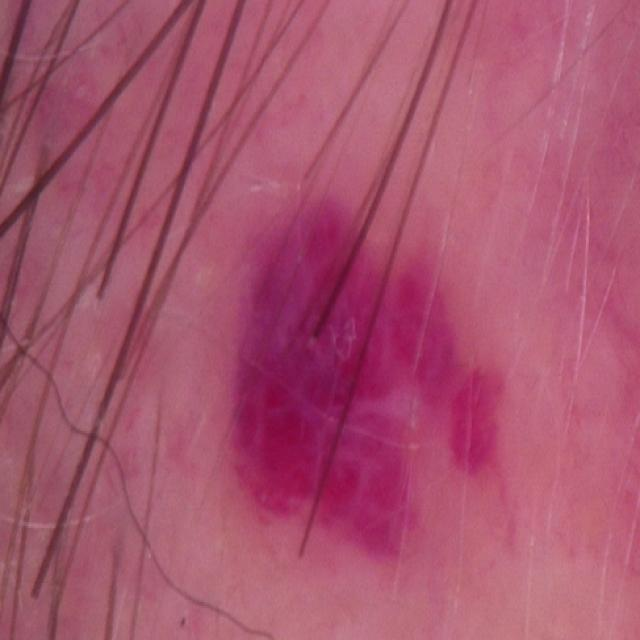Vascular Lesions: (203, 176, 513, 625)
